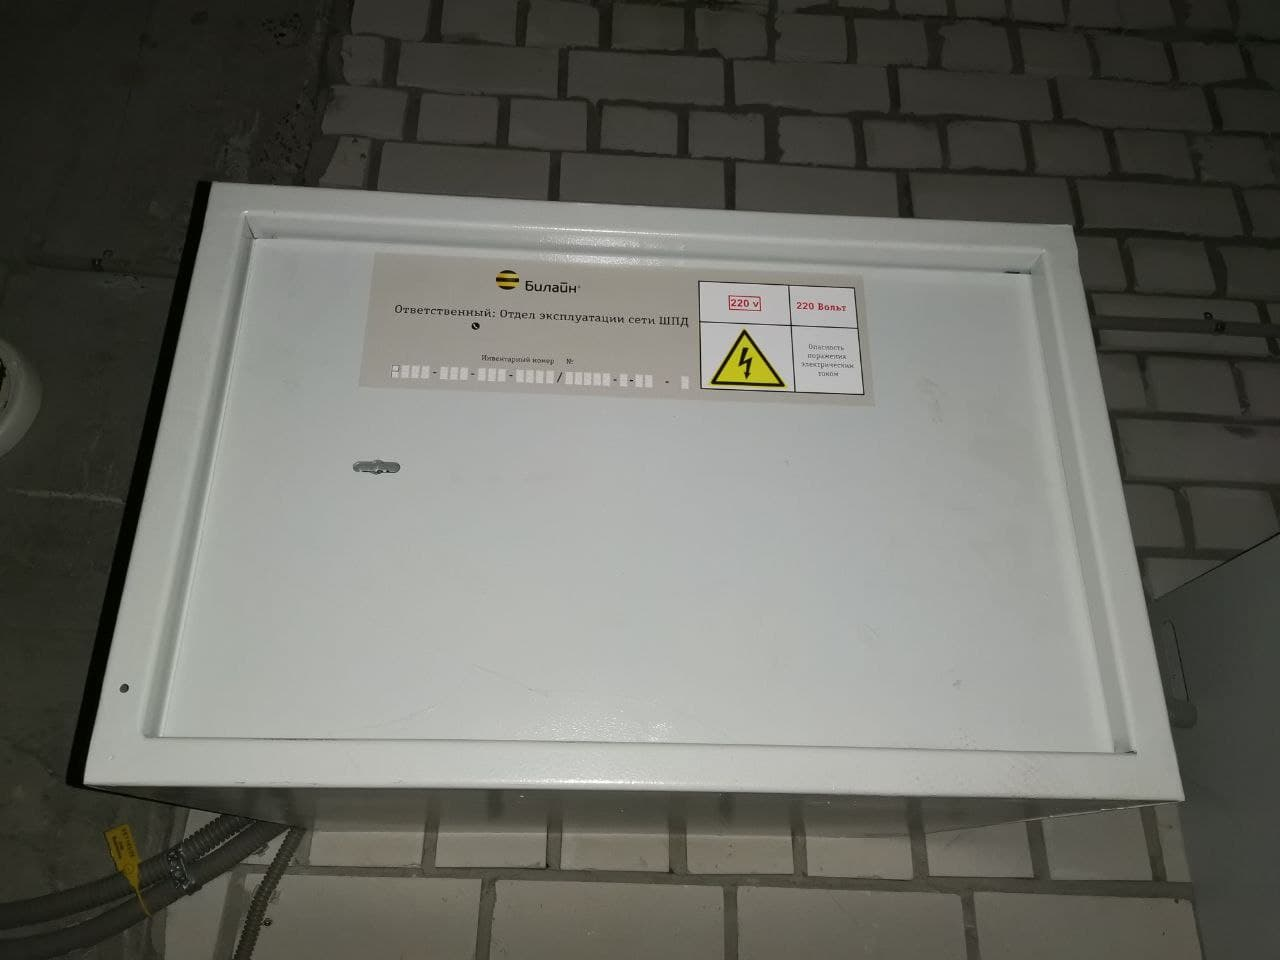shta-7m: (75, 171, 1198, 855)
